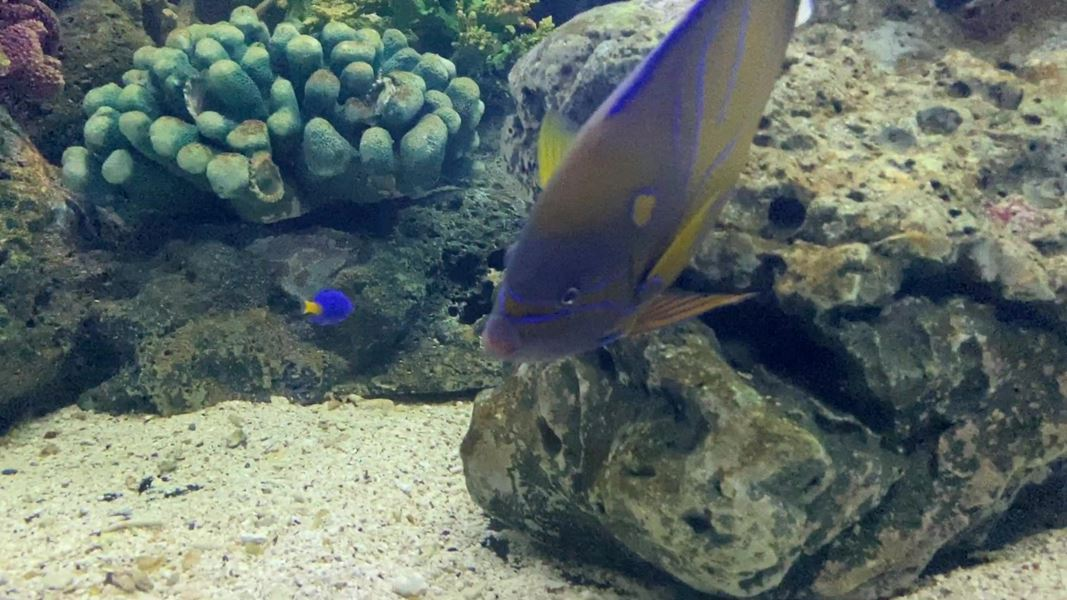Blue ring angelfish: (453, 1, 809, 375)
